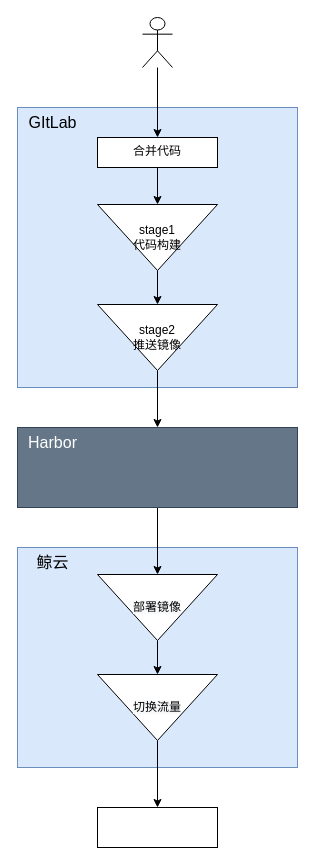
This 315x865 diagram has some shape labels left out. The box of each missing label's shape, as (x1, y1, x2, y2) in pixels:
Actor: (142, 16, 172, 68)
结束: (96, 806, 218, 848)
镜像仓库 (https://registry.gz.cvte.cn/): (16, 426, 298, 508)
